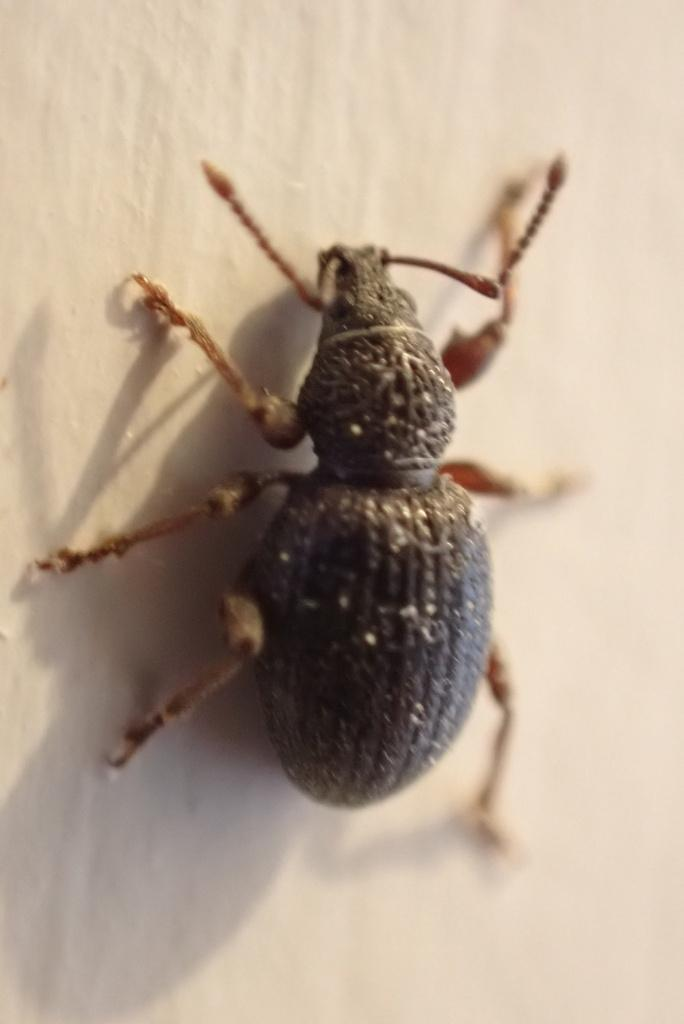weevils: (0, 70, 684, 926)
